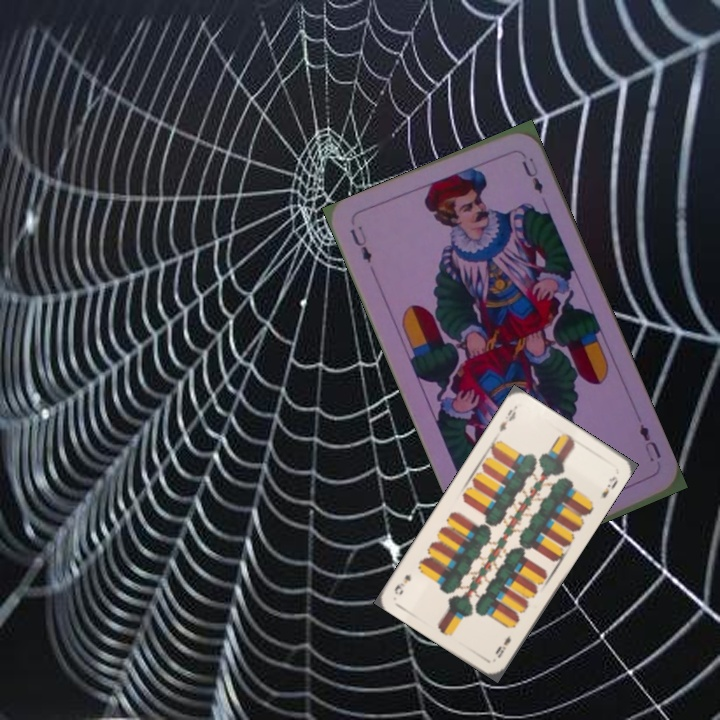E9: (495, 403, 519, 434), (491, 631, 514, 661)
EU: (635, 420, 664, 465), (345, 221, 374, 266)
